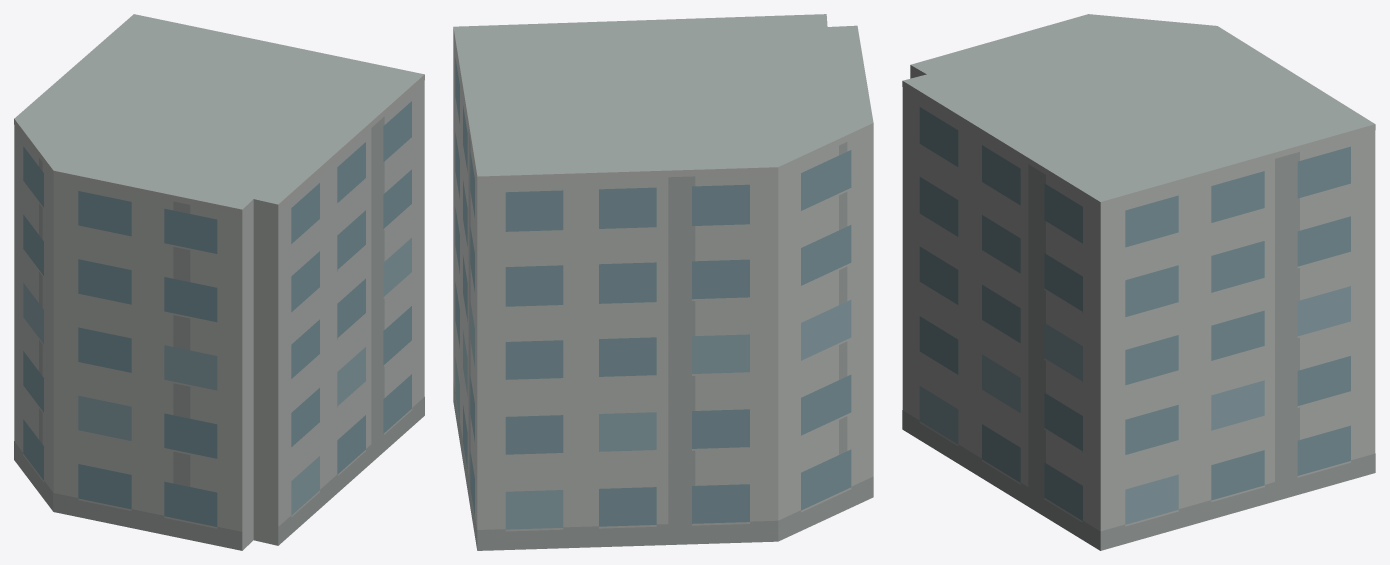
The model's file is survey-upis-32883647.glb.
The picture shows the model from 3 angles, left to right: view 1: azimuth 30°, elevation 25°; view 2: azimuth 150°, elevation 25°; view 3: azimuth 270°, elevation 25°; orthographic projection. The views are drawn at different scales.
Visible parts, largest first — view 1: survey-upis-32883647.tmp; view 2: survey-upis-32883647.tmp; view 3: survey-upis-32883647.tmp.
Part boxes in pixels (x1,y1,x2,y2): survey-upis-32883647.tmp: [14, 14, 424, 550]; survey-upis-32883647.tmp: [453, 14, 873, 550]; survey-upis-32883647.tmp: [902, 14, 1375, 550].
Size of the model in its own units: 15.85 by 13.7 by 16.84.
